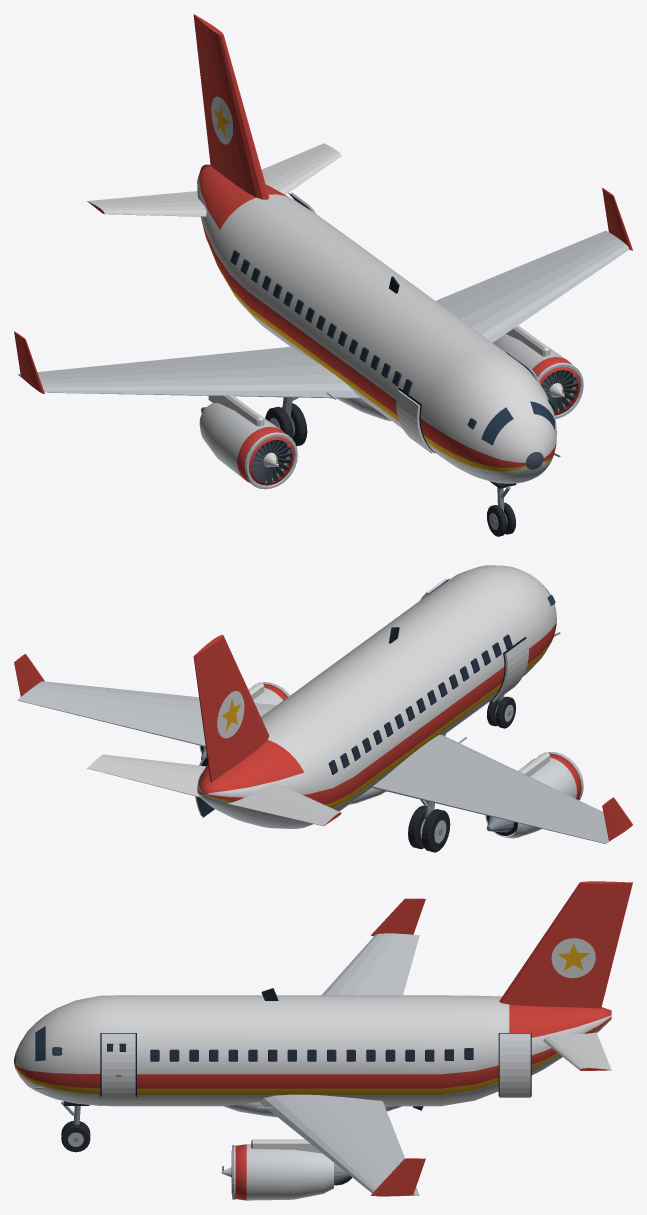
The model's file is skyport-jet.glb.
The picture shows the model from 3 angles, top to bottom: view 1: azimuth 30°, elevation 25°; view 2: azimuth 150°, elevation 25°; view 3: azimuth 270°, elevation 25°; orthographic projection. The views are drawn at different scales.
Visible parts, largest first — view 1: sp_jet_mesh, sp_jet_fanr_mesh, sp_jet_wheel_r_mesh, sp_jet_fanl_mesh, sp_jet_hold_mesh, sp_jet_wheel_n_mesh; view 2: sp_jet_mesh, sp_jet_wheel_r_mesh, sp_jet_hold_mesh, sp_jet_wheel_n_mesh; view 3: sp_jet_mesh, sp_jet_door_mesh, sp_jet_galley_mesh, sp_jet_wheel_n_mesh.
Boxes of the visible parts, x1=… form: sp_jet_mesh: x1=14, y1=14, x2=632, y2=489; sp_jet_fanr_mesh: x1=252, y1=440, x2=292, y2=483; sp_jet_wheel_r_mesh: x1=265, y1=403, x2=307, y2=446; sp_jet_fanl_mesh: x1=541, y1=370, x2=578, y2=413; sp_jet_hold_mesh: x1=396, y1=390, x2=432, y2=453; sp_jet_wheel_n_mesh: x1=487, y1=502, x2=515, y2=536; sp_jet_mesh: x1=14, y1=565, x2=632, y2=843; sp_jet_wheel_r_mesh: x1=408, y1=805, x2=450, y2=852; sp_jet_hold_mesh: x1=492, y1=639, x2=528, y2=702; sp_jet_wheel_n_mesh: x1=487, y1=696, x2=515, y2=728; sp_jet_mesh: x1=14, y1=881, x2=632, y2=1200; sp_jet_door_mesh: x1=101, y1=1033, x2=135, y2=1097; sp_jet_galley_mesh: x1=499, y1=1033, x2=530, y2=1097; sp_jet_wheel_n_mesh: x1=61, y1=1121, x2=90, y2=1152.
Bounding box in the file's own units: 14.49 × 6.9 × 14.5.
